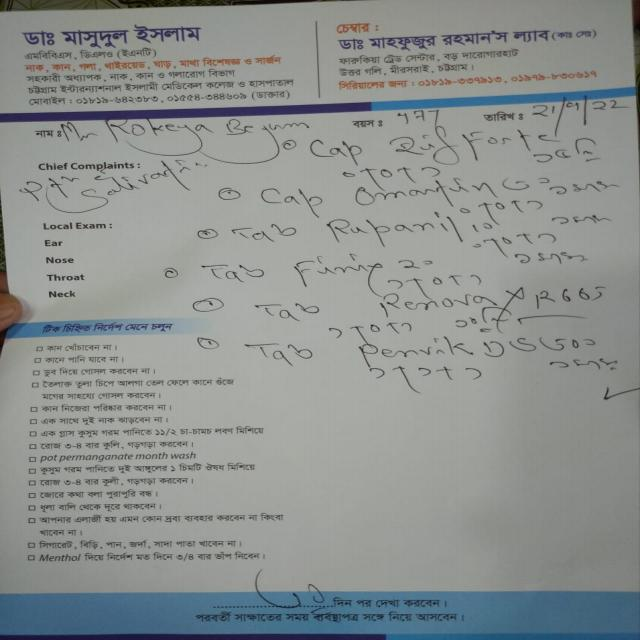Finix: (277, 254, 395, 277)
Omastin: (342, 178, 499, 207)
Penvik DS: (353, 338, 543, 358)
Renova: (371, 288, 559, 311)
Rupanil: (316, 214, 470, 244)
Zif Forte: (371, 131, 556, 153)
